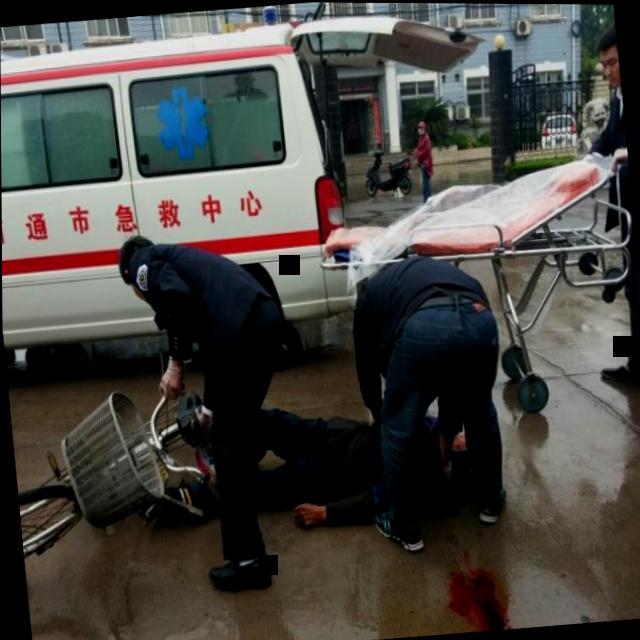Fall-Detected: (169, 366, 492, 552)
